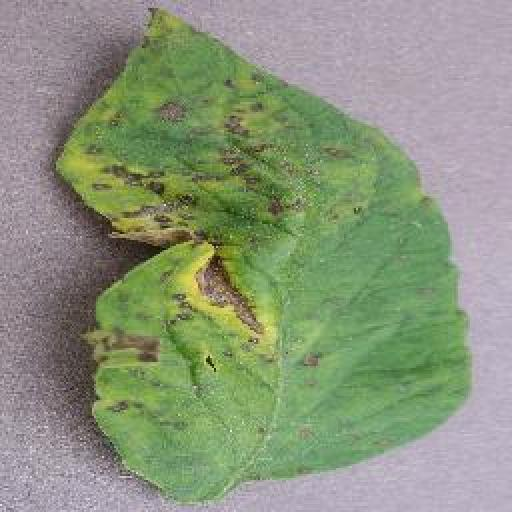disease_tomato: (60, 7, 468, 505)
